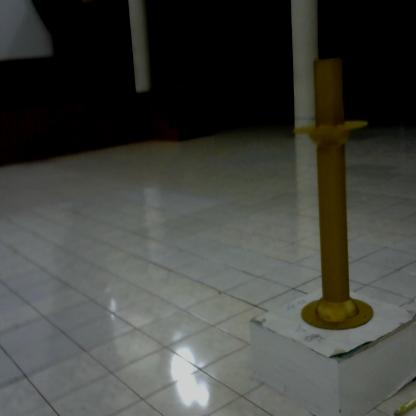pole: (290, 44, 381, 338)
